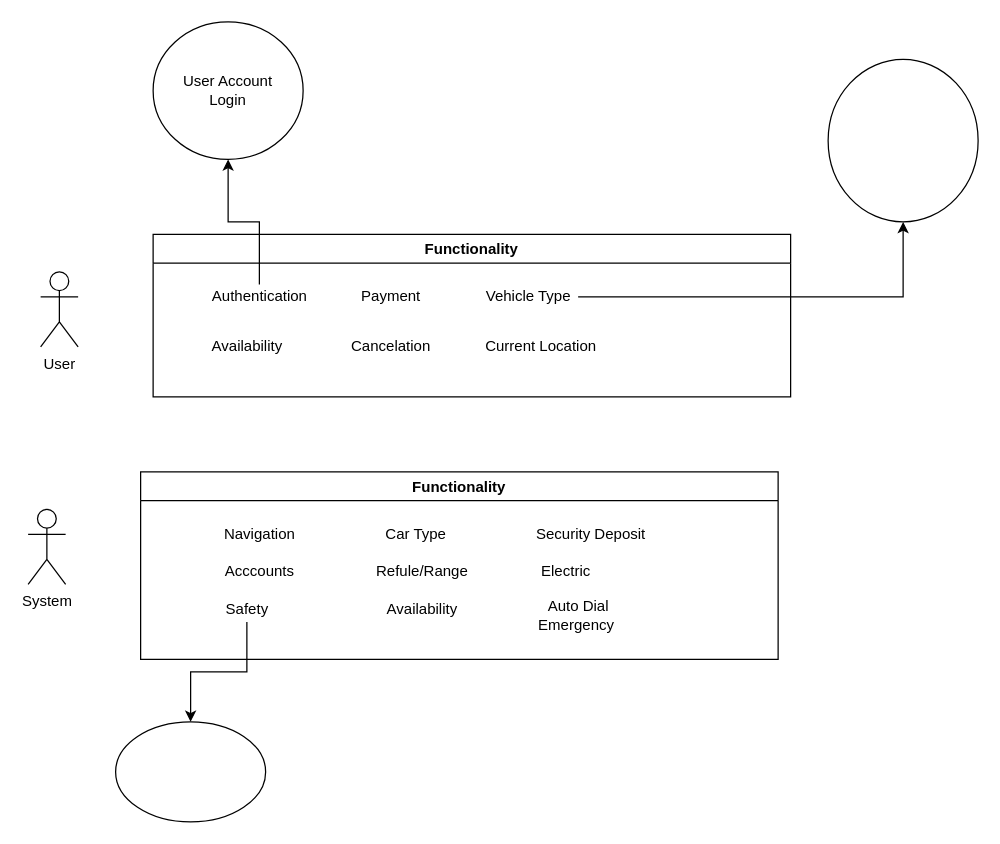
Some shapes in this 1000 by 844 pixel diagram are drawn without their labels. Here are the shapes that lost their labels. From the top down, the centre of each, then its label:
At point 902,140: "Party Bus Trucking Travel Shopping".
At point 190,771: "Legal".
